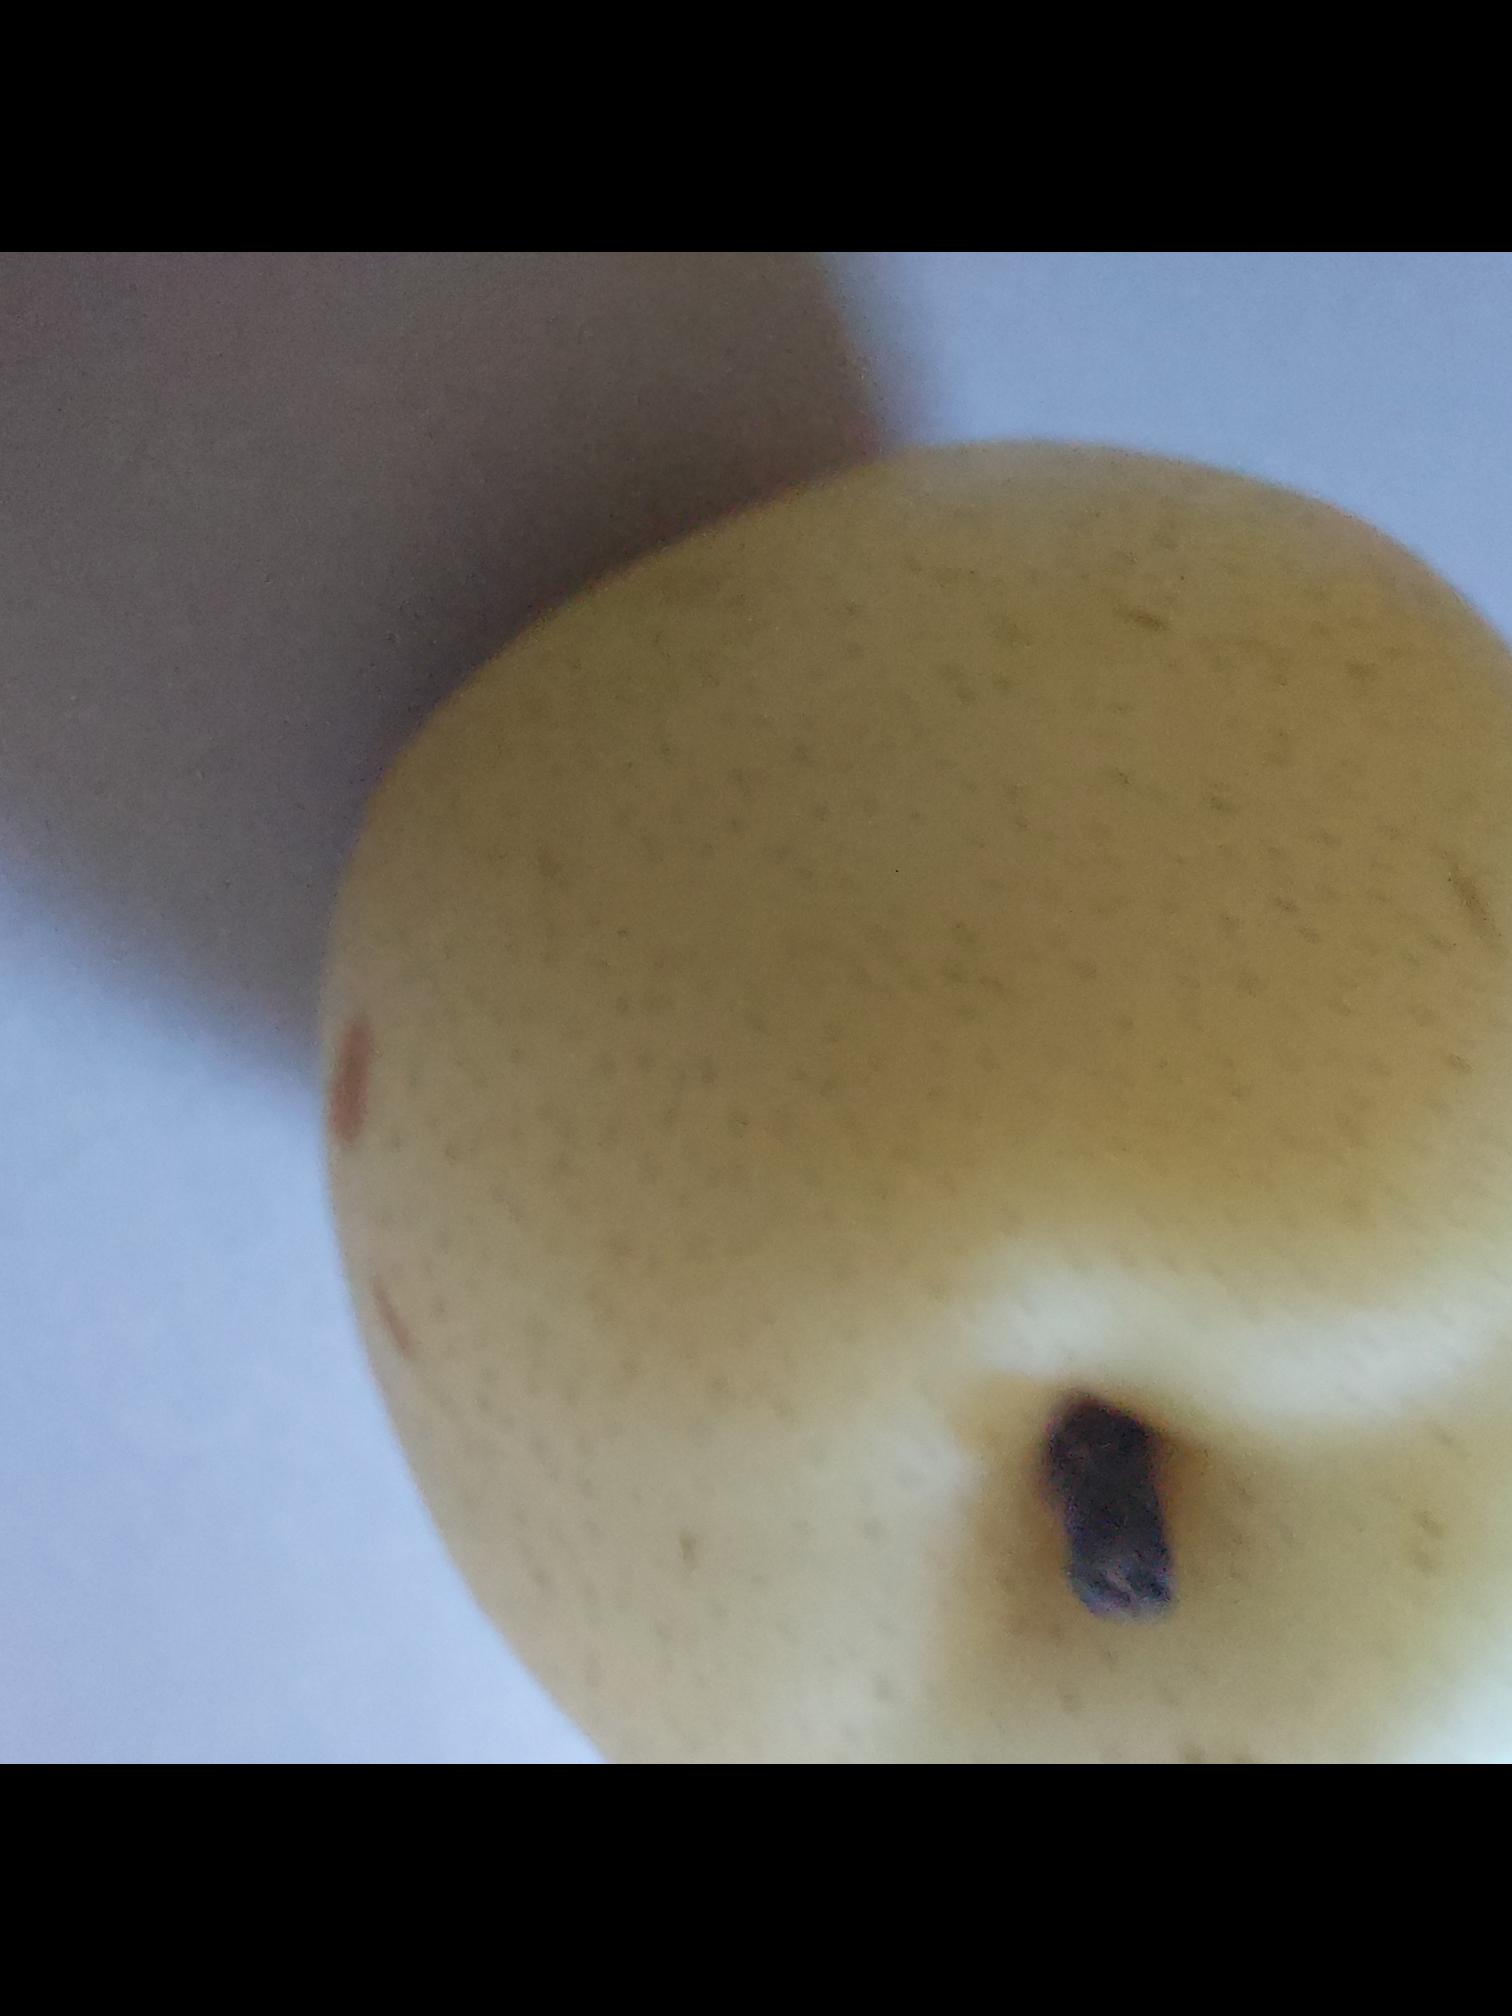Good Pear: (287, 438, 1512, 1764)
